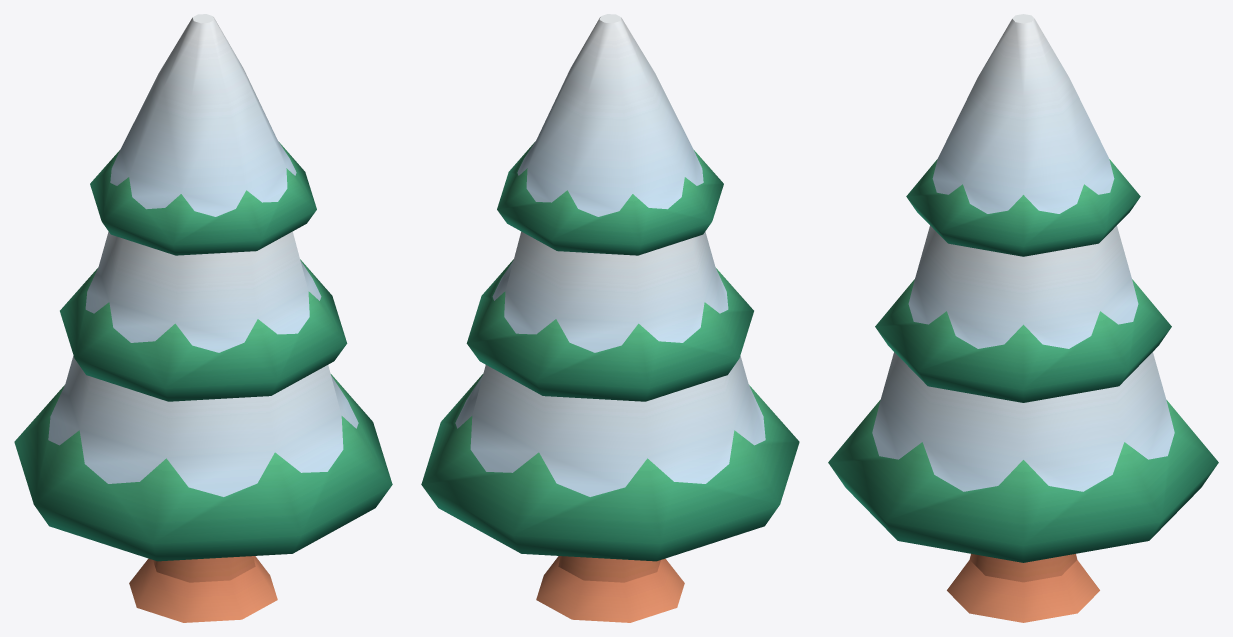
File: holiday-tree-snow-a.glb
3 views of the same model, side by side, from view 1: azimuth 30°, elevation 25°; view 2: azimuth 150°, elevation 25°; view 3: azimuth 270°, elevation 25° (orthographic).
Visible parts, largest first — view 1: tree-snow-a; view 2: tree-snow-a; view 3: tree-snow-a.
Part boxes in pixels (left/top/right/bottom): tree-snow-a: left=14, top=14, right=392, bottom=622; tree-snow-a: left=421, top=14, right=799, bottom=622; tree-snow-a: left=828, top=14, right=1218, bottom=622.
Bounding box in the file's own units: 1.19 × 1.92 × 1.19.
Materials: 1 (1 with a texture image).
